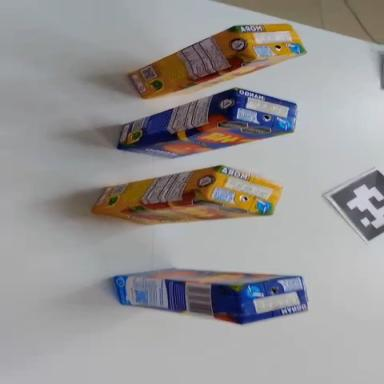HIT-MANGO: (110, 76, 302, 169), (113, 267, 309, 328)
HIT-MORA: (125, 7, 306, 112), (90, 161, 284, 229)
cara_F: (117, 107, 294, 170), (143, 41, 305, 109), (93, 194, 269, 230), (121, 266, 297, 290)
